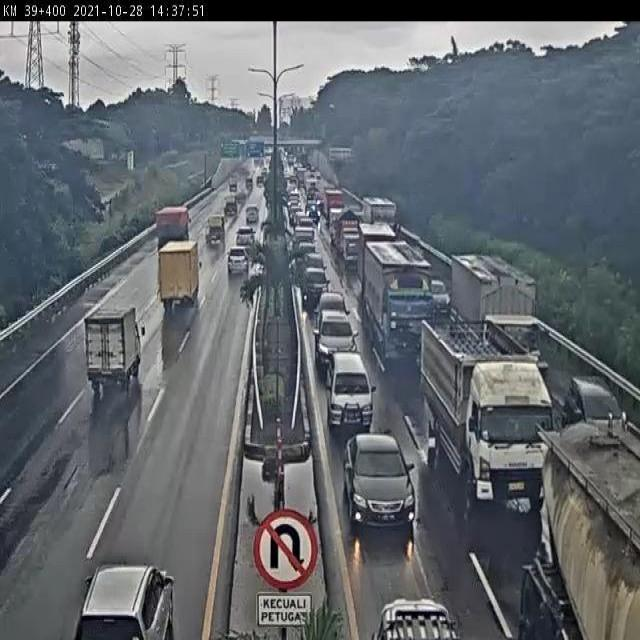big truck: (406, 304, 551, 509), (518, 416, 640, 640), (446, 240, 549, 400), (358, 240, 437, 363), (151, 207, 202, 253)
car: (335, 426, 425, 538), (73, 566, 190, 640), (369, 573, 471, 640), (319, 348, 384, 445), (553, 360, 621, 429), (310, 315, 365, 376), (317, 287, 355, 320), (222, 249, 250, 288), (233, 222, 260, 250), (239, 202, 264, 230)
small truck: (72, 303, 148, 407), (154, 238, 211, 314), (201, 216, 229, 249)
